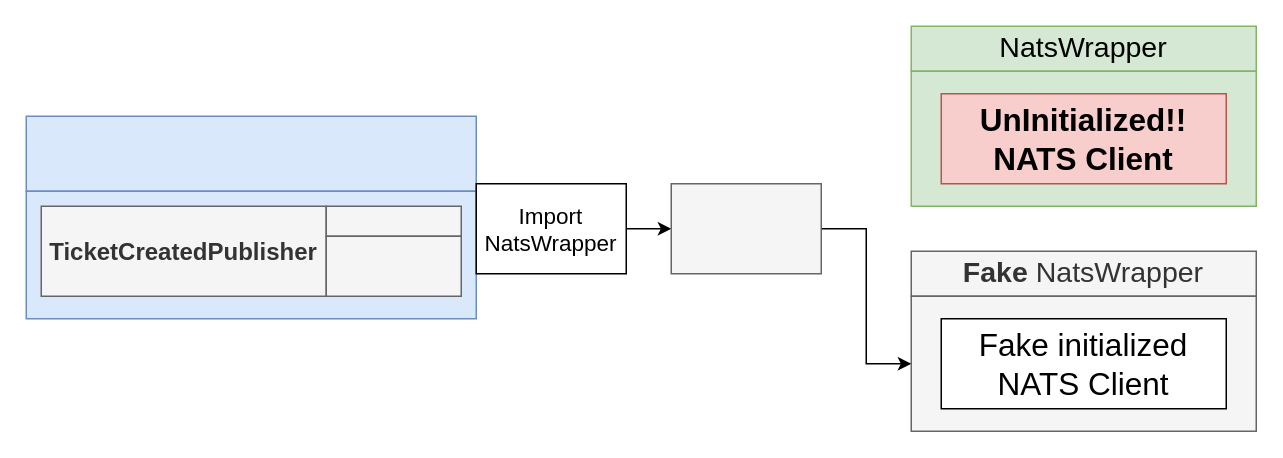
The diagram is 1283 pixels wide and 458 high, and some of its shapes have lost their labels. The centre of each missing label's shape, as x and y in pixels:
client: (x=393, y=220)
Jest: (x=745, y=228)
New Ticket Route Handler: (x=250, y=153)
